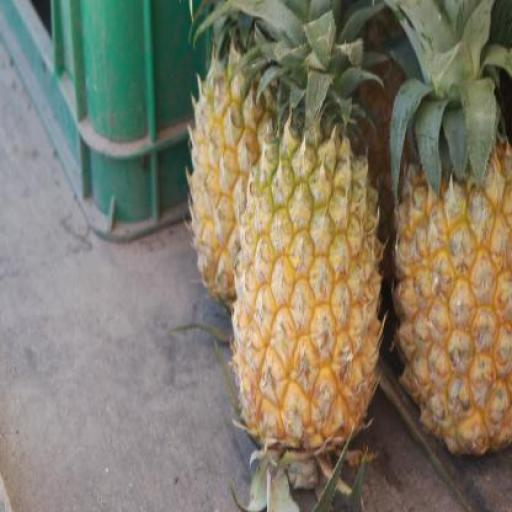Pineapple - v8 v1: (240, 141, 386, 458), (391, 137, 511, 460), (192, 50, 287, 300)
